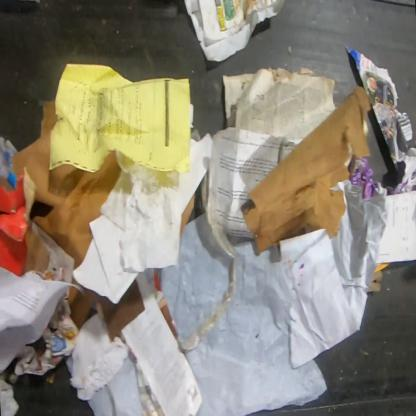cardboard: (241, 83, 373, 256), (13, 100, 122, 270), (0, 165, 52, 278), (100, 279, 144, 343), (68, 286, 103, 331), (180, 189, 197, 236), (368, 270, 383, 292), (374, 262, 391, 272)
soft_plastic: (184, 239, 328, 416), (179, 138, 238, 351), (155, 213, 230, 344), (86, 349, 146, 415), (0, 137, 19, 185)
